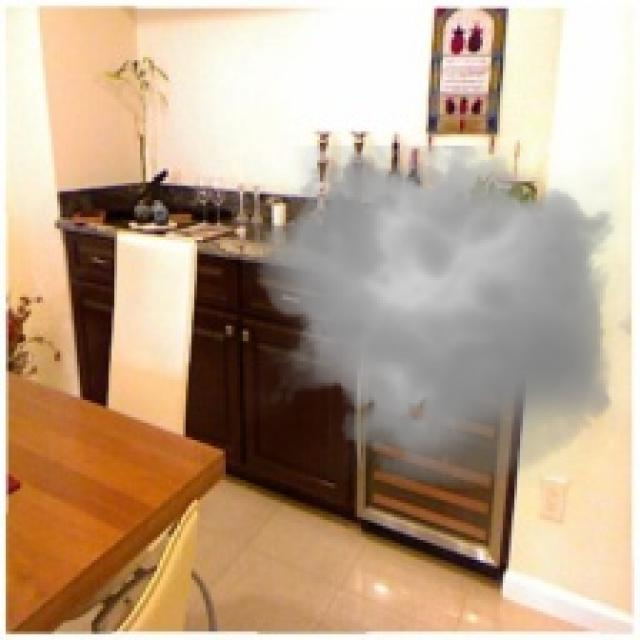smoke: (243, 129, 631, 500)
